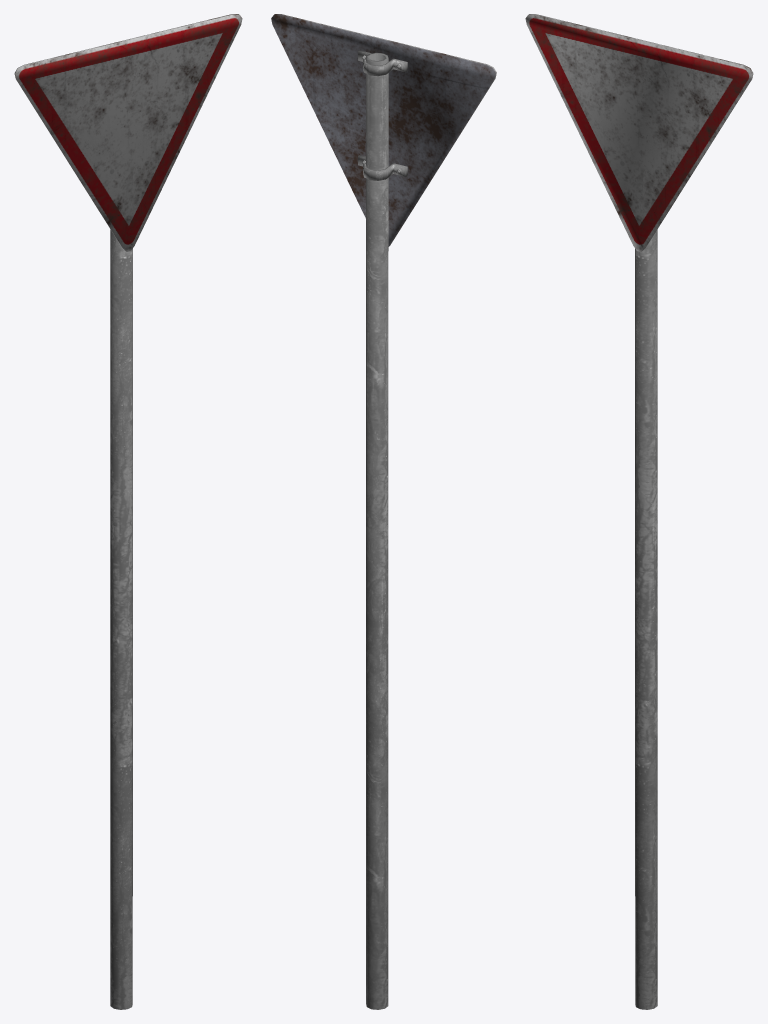
Rendered from street_give_way.fbx.
The picture shows the model from 3 angles, left to right: view 1: azimuth 30°, elevation 25°; view 2: azimuth 150°, elevation 25°; view 3: azimuth 330°, elevation 25°; orthographic projection.
Visible parts, largest first — view 1: street_give_way; view 2: street_give_way; view 3: street_give_way.
Part boxes in pixels (left/top/right/bottom): street_give_way: left=14, top=14, right=242, bottom=1009; street_give_way: left=271, top=14, right=496, bottom=1009; street_give_way: left=525, top=14, right=753, bottom=1009.
Size of the model in its own units: 1.49 by 6.07 by 0.1666.
4 materials, 4 textured.
